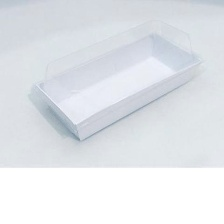plastic_box: (25, 13, 210, 145)
